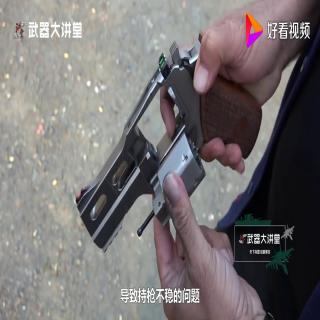gun: (77, 35, 244, 285)
